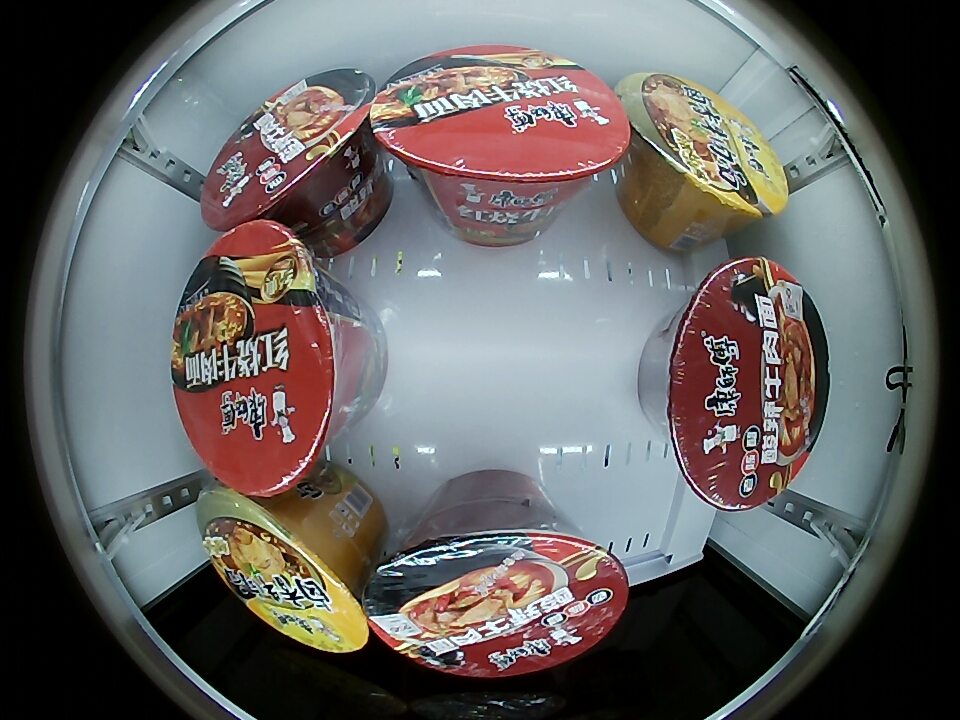hongshaoniurou: (171, 222, 350, 496), (368, 46, 632, 190)
luxiangniurou: (200, 493, 374, 653), (616, 73, 789, 221)
suanlaniurou: (659, 258, 829, 510), (363, 526, 630, 677), (201, 68, 378, 228)
